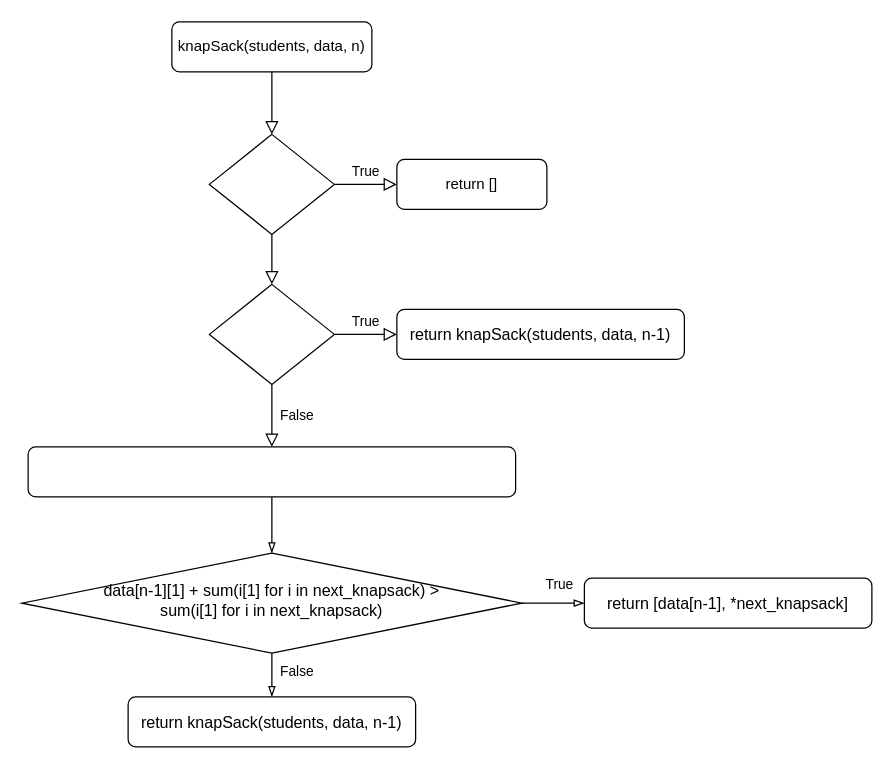
Image size: 894x769. Some labels were removed from this diagram. The shapes that lost their labels are listed below. From the top down, each one's box as (x1, y1, x2, y2) in pixels, then its label:
(208, 133, 334, 234): n == 0 or students == 0
(208, 283, 334, 384): data[n-1][2] > students
(27, 446, 516, 497): next_knapsack = knapSack(students - data[n1][2], data, n-1)
